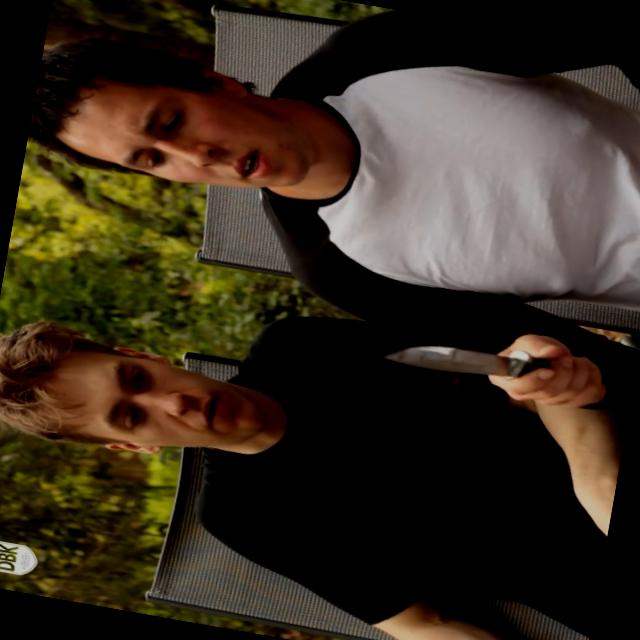knife: (366, 305, 573, 401)
